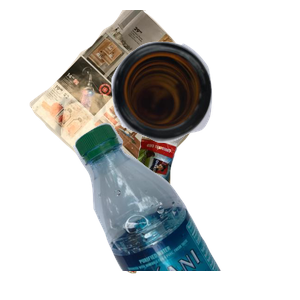glass: (109, 39, 300, 175)
paper: (27, 10, 230, 190)
plastic: (71, 120, 300, 300)
trash: (120, 131, 290, 300)
